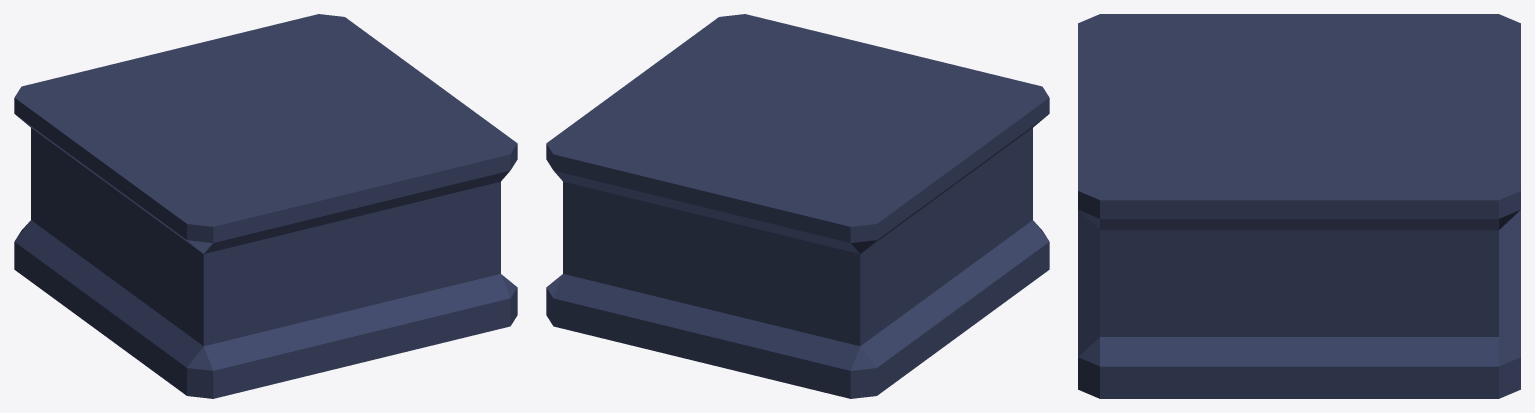
Rendered from base_riser_1x1.fbx.
3 renders of one model, left to right at view 1: azimuth 30°, elevation 25°; view 2: azimuth 150°, elevation 25°; view 3: azimuth 270°, elevation 25°, orthographic. The views are drawn at different scales.
Visible parts, largest first — view 1: base_riser_1x1; view 2: base_riser_1x1; view 3: base_riser_1x1.
Boxes of the visible parts, x1,y1,x2,y2 form: base_riser_1x1: [14, 14, 517, 398]; base_riser_1x1: [546, 14, 1049, 398]; base_riser_1x1: [1078, 14, 1520, 398].
Bounding box in the file's own units: 199 × 99 × 200.
